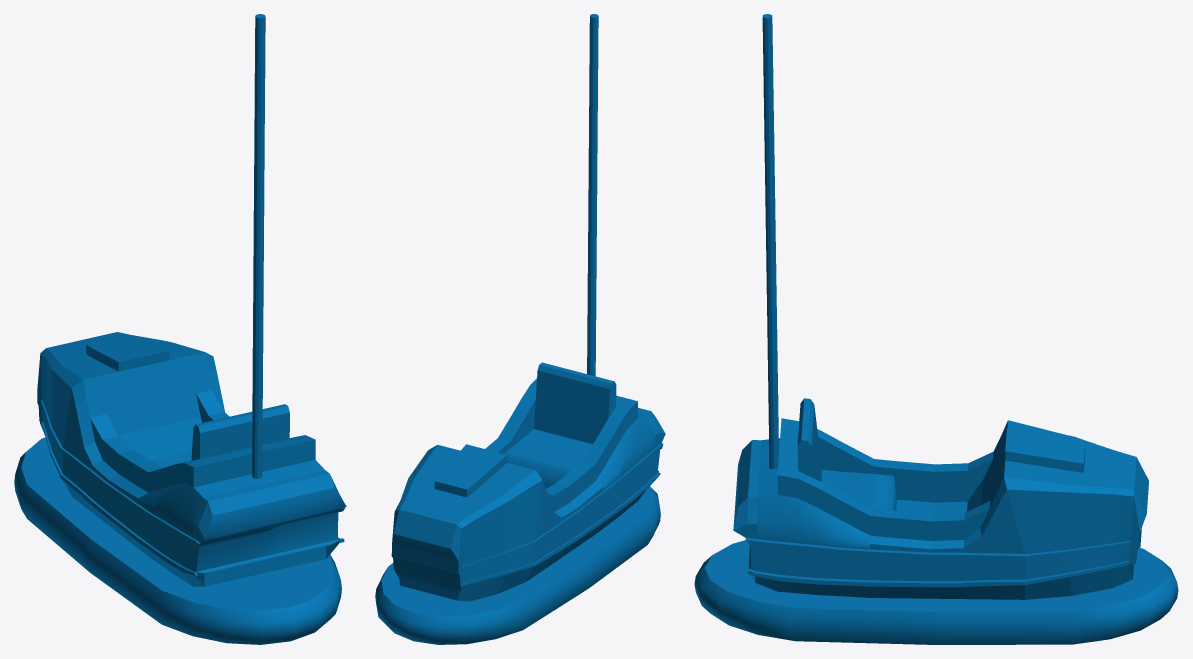
Rendered from BlueBumperCar.fbx.
3 renders of one model, left to right at view 1: azimuth 30°, elevation 25°; view 2: azimuth 150°, elevation 25°; view 3: azimuth 270°, elevation 25°, orthographic. The views are drawn at different scales.
Parts seen in each view (by area): view 1: pCube39, pCylinder68, pCylinder69; view 2: pCube39, pCylinder68, pCylinder69; view 3: pCube39, pCylinder68, pCylinder69.
Part boxes in pixels (left/top/right/bottom): pCube39: left=37, top=332, right=346, bottom=586; pCylinder68: left=14, top=437, right=341, bottom=644; pCylinder69: left=252, top=14, right=265, bottom=478; pCube39: left=391, top=362, right=665, bottom=601; pCylinder68: left=375, top=486, right=660, bottom=644; pCylinder69: left=587, top=14, right=598, bottom=376; pCube39: left=733, top=398, right=1148, bottom=599; pCylinder68: left=694, top=540, right=1178, bottom=644; pCylinder69: left=762, top=14, right=778, bottom=468.
Bounding box in the file's own units: 1.31 × 4.16 × 3.11.
